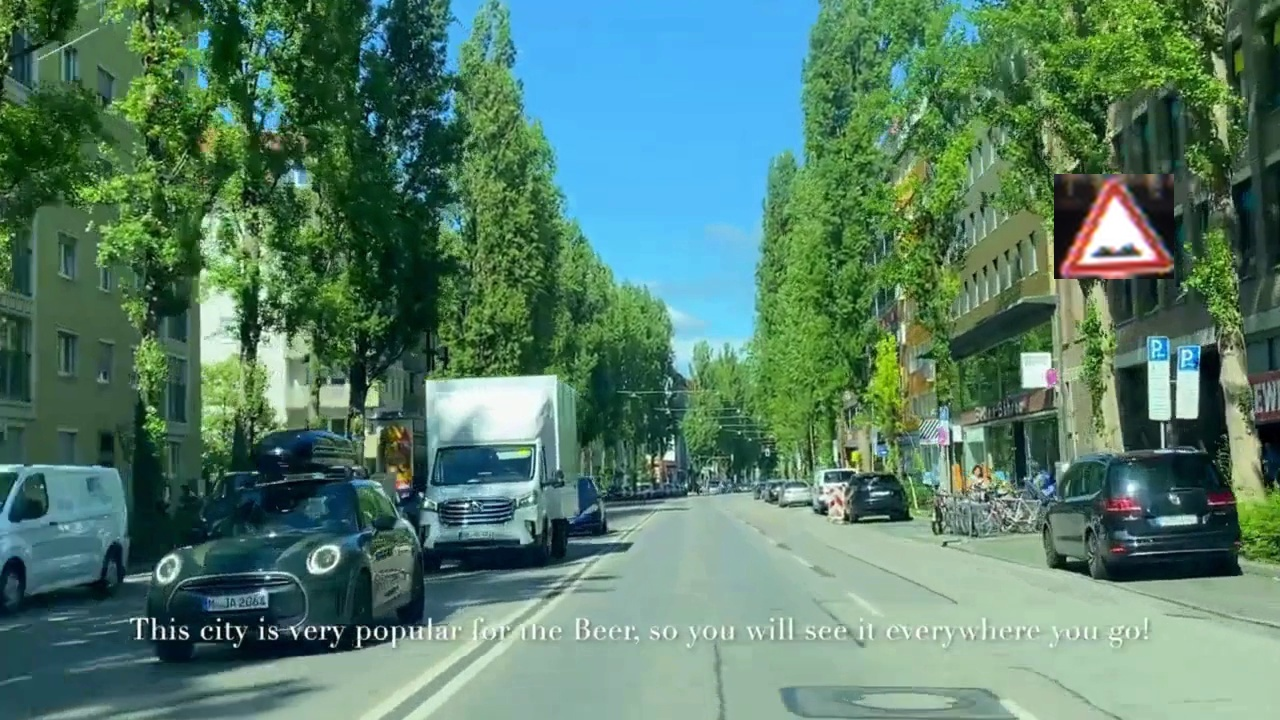Bumpy road: (1054, 174, 1174, 279)
